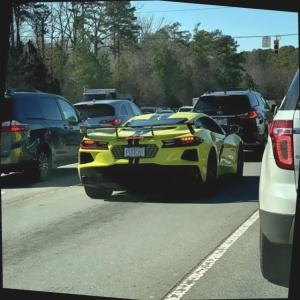Plate: (124, 146, 145, 158)
